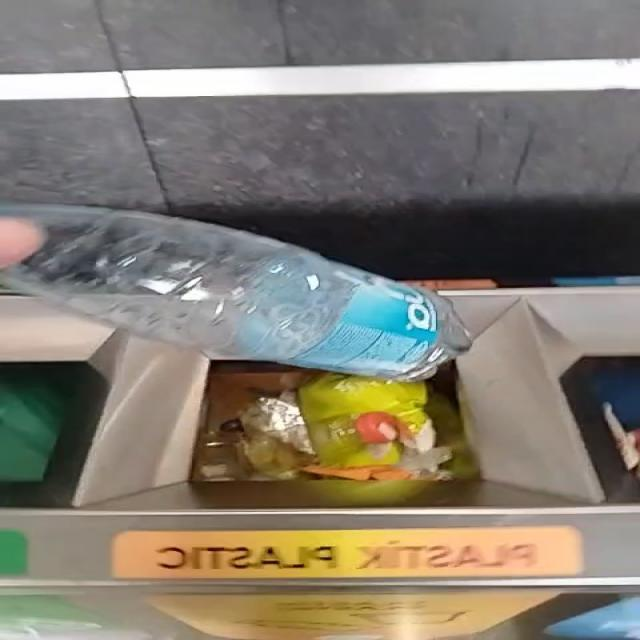Plastic: (1, 204, 471, 381)
